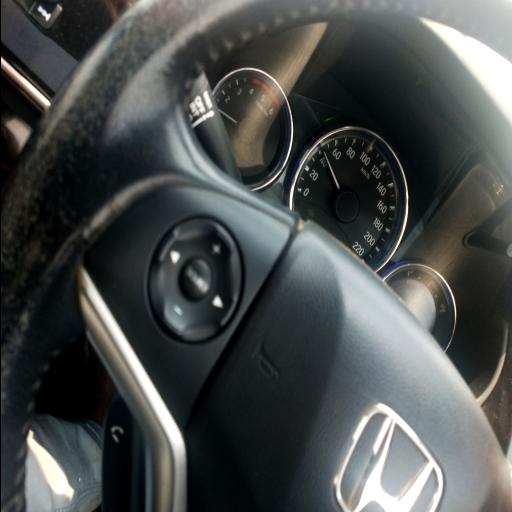tachometer: (214, 68, 292, 190)
